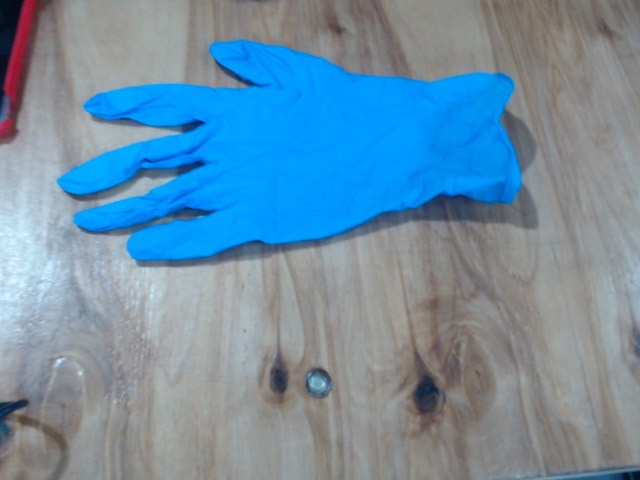medical_glove: (57, 40, 523, 257)
